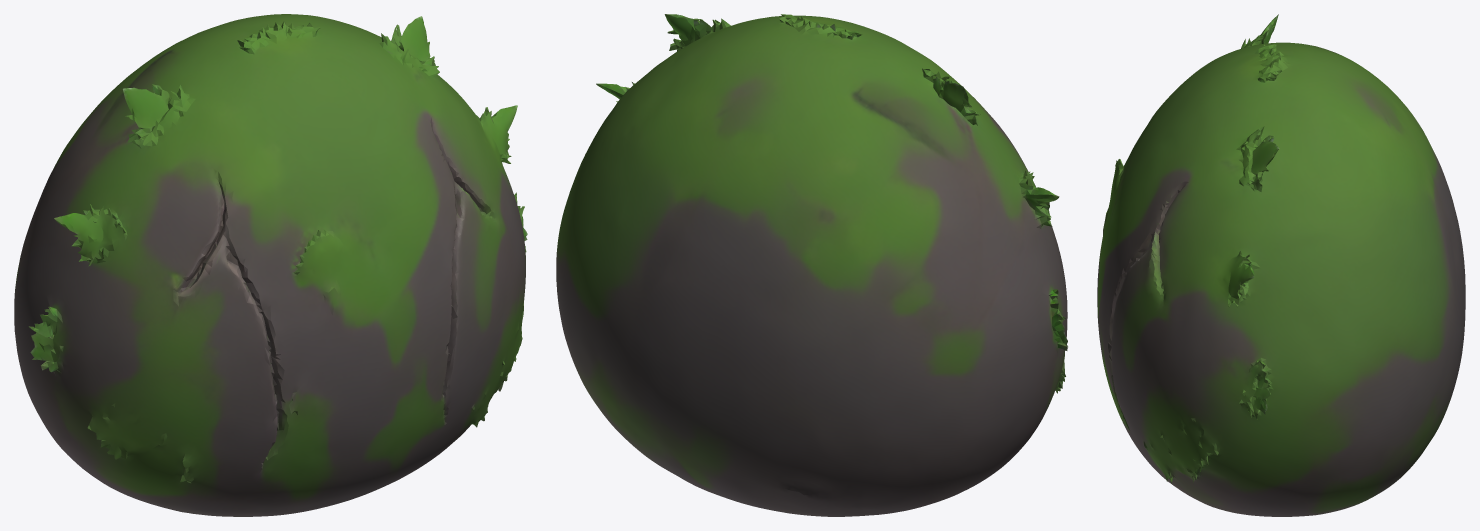
The model's file is Jungle_MossBoulder.glb.
The picture shows the model from 3 angles, left to right: view 1: azimuth 30°, elevation 25°; view 2: azimuth 150°, elevation 25°; view 3: azimuth 270°, elevation 25°; orthographic projection. The views are drawn at different scales.
Visible parts, largest first — view 1: Jungle_MossBoulder; view 2: Jungle_MossBoulder; view 3: Jungle_MossBoulder.
Part boxes in pixels (x1,y1,x2,y2): Jungle_MossBoulder: (14, 14, 527, 516); Jungle_MossBoulder: (556, 14, 1067, 516); Jungle_MossBoulder: (1097, 14, 1465, 516).
Size of the model in its own units: 1.89 by 1.7 by 1.32.
1 material, 1 textured.
